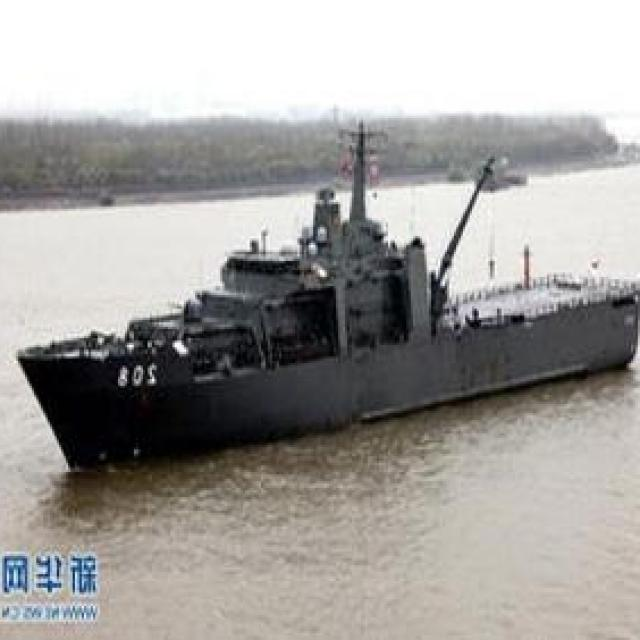navalvessels: (48, 140, 640, 465)
